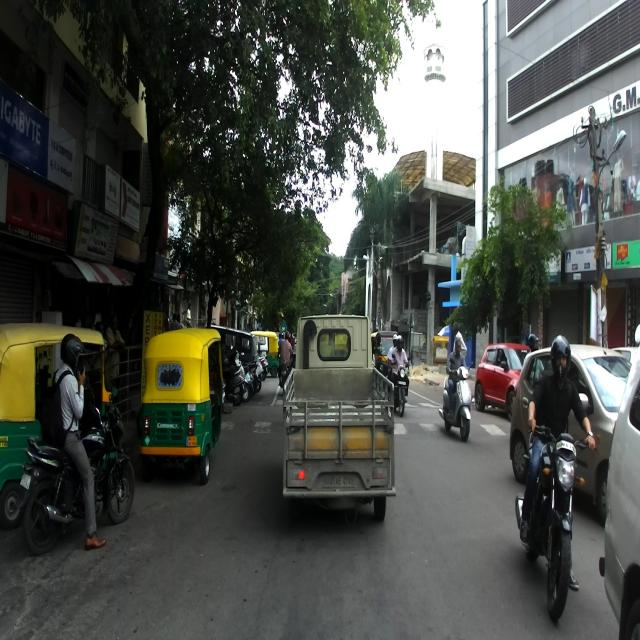Car_Maruti-Suzuki: (472, 337, 530, 416)
autorickshaw: (1, 317, 114, 521), (141, 325, 226, 483)
motorcycle_Yamaha: (515, 424, 597, 622)
motorcycle_bajaj: (17, 386, 134, 556)
scooter: (438, 356, 472, 443)
truck: (284, 293, 398, 508)
